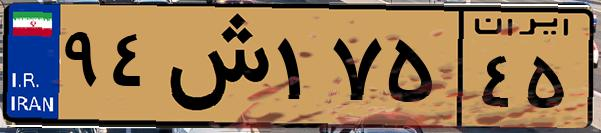1: (270, 28, 330, 110)
4: (475, 38, 525, 113), (110, 28, 158, 98)
5: (385, 28, 445, 110), (525, 38, 570, 115)
7: (330, 28, 385, 110)
9: (57, 26, 110, 100)
ش: (158, 12, 270, 120)
